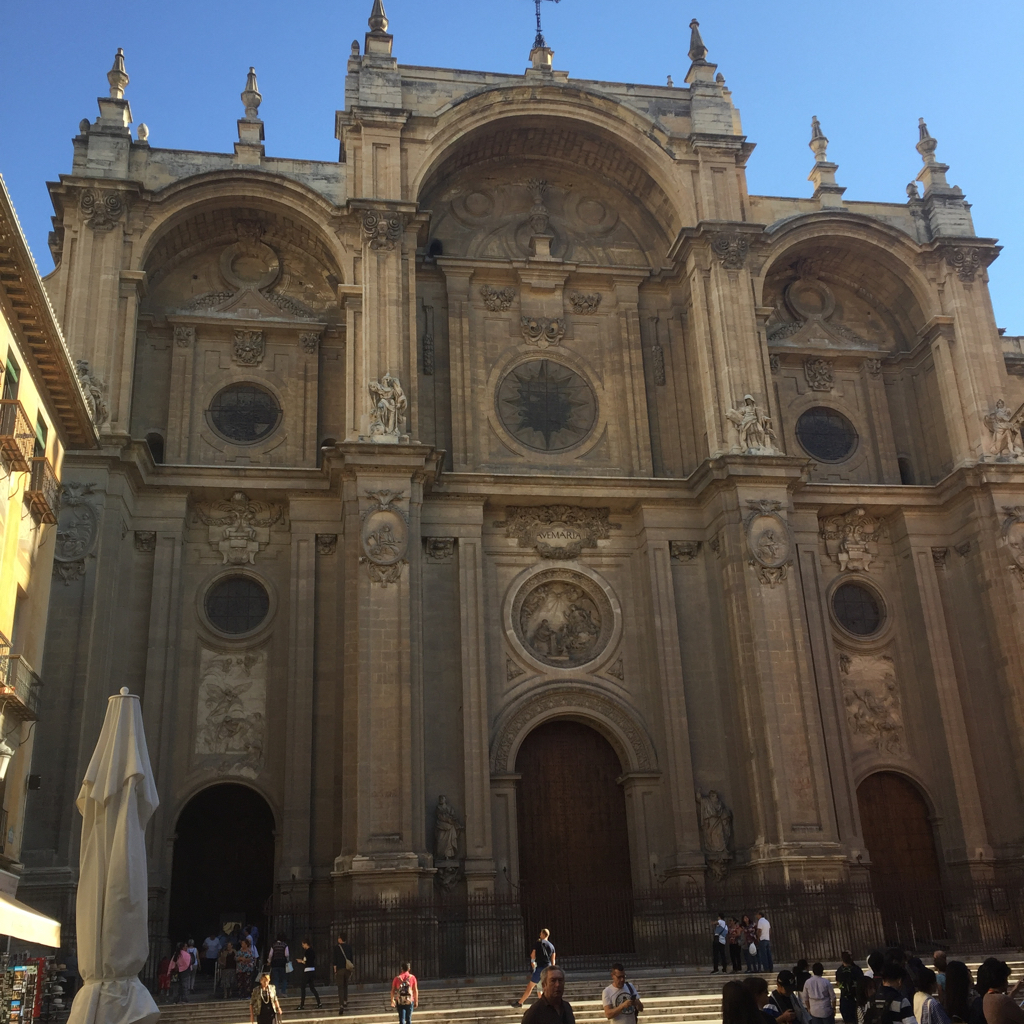arco-medio-punto: (409, 108, 705, 269), (132, 188, 357, 314), (756, 231, 946, 334), (506, 705, 646, 802), (169, 773, 280, 850), (854, 768, 942, 831)
ojo-de-buey: (195, 564, 282, 643), (201, 374, 290, 447), (790, 397, 860, 464), (828, 570, 892, 640)
